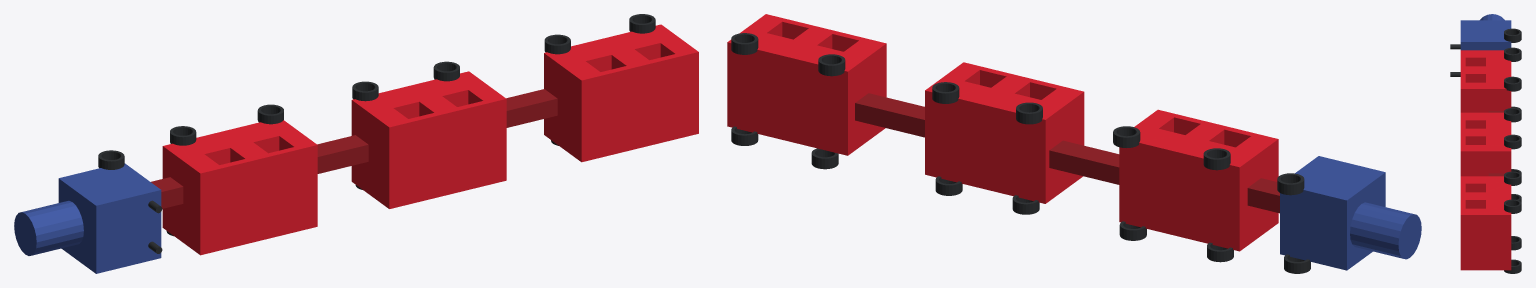
The model's file is tinker.obj.
The picture shows the model from 3 angles, left to right: view 1: azimuth 30°, elevation 25°; view 2: azimuth 150°, elevation 25°; view 3: azimuth 270°, elevation 25°; orthographic projection. The views are drawn at different scales.
Visible parts, largest first — view 1: group_0_15277357, group_0_3888547, group_0_9771553, group_0_2829873; view 2: group_0_15277357, group_0_3888547, group_0_2829873, group_0_9771553; view 3: group_0_15277357, group_0_2829873, group_0_3888547, group_0_9771553.
Boxes of the visible parts, box(x1,y1,x2,y2) form: group_0_15277357: box(162, 24, 698, 255); group_0_3888547: box(14, 163, 161, 273); group_0_9771553: box(151, 89, 557, 208); group_0_2829873: box(98, 14, 655, 253); group_0_15277357: box(727, 14, 1278, 251); group_0_3888547: box(1280, 156, 1421, 270); group_0_2829873: box(731, 33, 1310, 273); group_0_9771553: box(855, 93, 1279, 213); group_0_15277357: box(1460, 50, 1511, 270); group_0_2829873: box(1450, 28, 1521, 273); group_0_3888547: box(1460, 14, 1511, 50); group_0_9771553: box(1488, 111, 1504, 176).
Size of the model in its own units: 200 by 30 by 28.
